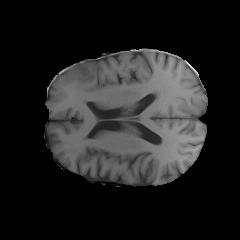glioma: (62, 62, 111, 103)
